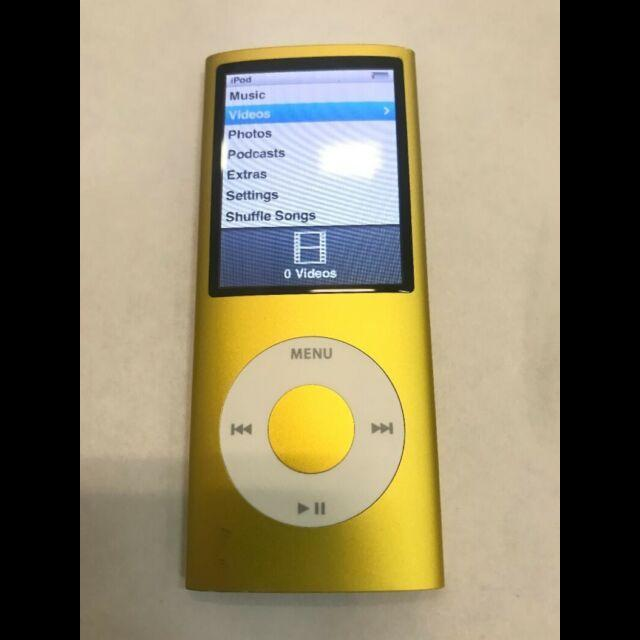Music-Player: (180, 40, 452, 598)
